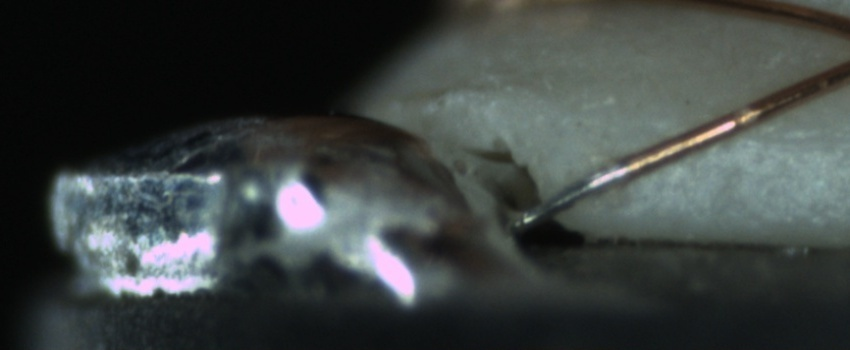DL: (699, 109, 849, 170)
TS: (516, 163, 628, 227)
TTCW: (510, 154, 640, 230)
